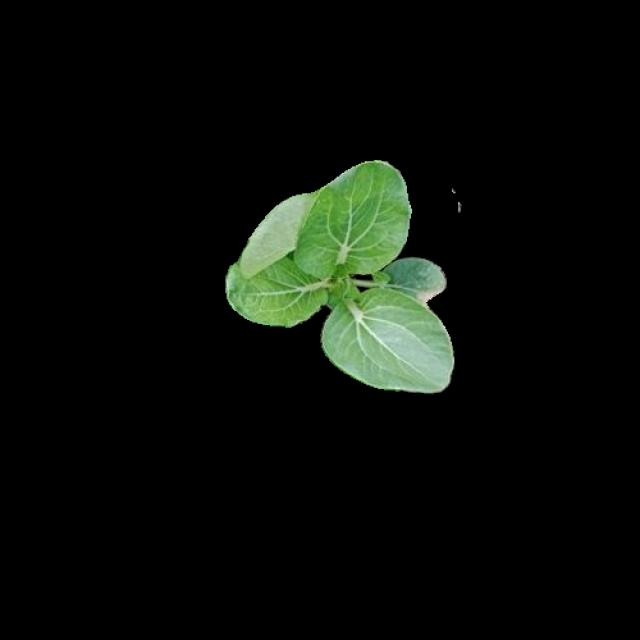not-mature: (227, 161, 458, 397)
unhealthy: (349, 257, 447, 311)
